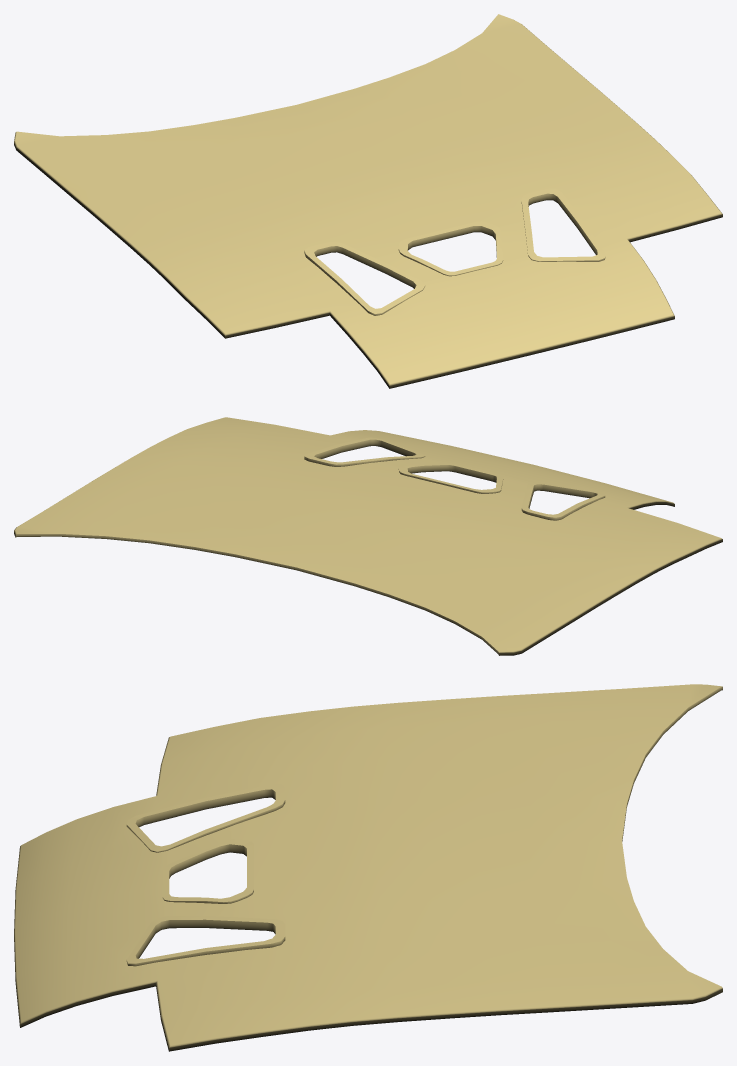
Rendered from MX5_Hood03_Duco.fbx.
The picture shows the model from 3 angles, top to bottom: view 1: azimuth 30°, elevation 25°; view 2: azimuth 150°, elevation 25°; view 3: azimuth 270°, elevation 25°; orthographic projection. The views are drawn at different scales.
Parts seen in each view (by area): view 1: MX5_Hood03_Duco; view 2: MX5_Hood03_Duco; view 3: MX5_Hood03_Duco.
Boxes of the visible parts, bbox=[...] form: MX5_Hood03_Duco: bbox=[14, 14, 722, 388]; MX5_Hood03_Duco: bbox=[14, 417, 722, 655]; MX5_Hood03_Duco: bbox=[14, 684, 722, 1051].
Size of the model in its own units: 130 by 19.71 by 123.
